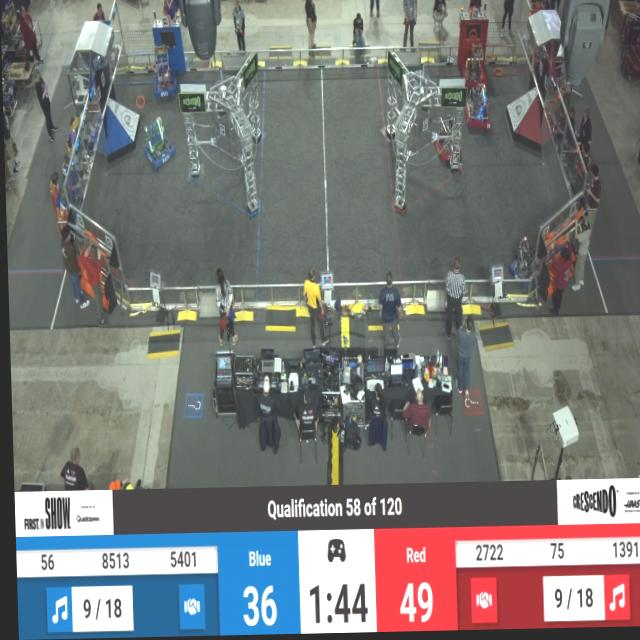Robot: (506, 230, 545, 296), (142, 117, 174, 174), (433, 115, 463, 172), (152, 41, 179, 104), (461, 34, 489, 93), (465, 85, 492, 135)
